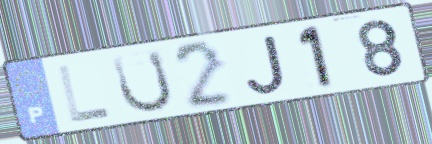1: (295, 22, 336, 91)
2: (172, 39, 240, 114)
8: (356, 18, 408, 79)
J: (243, 32, 289, 96)
L: (55, 62, 115, 126)
U: (109, 47, 176, 116)
